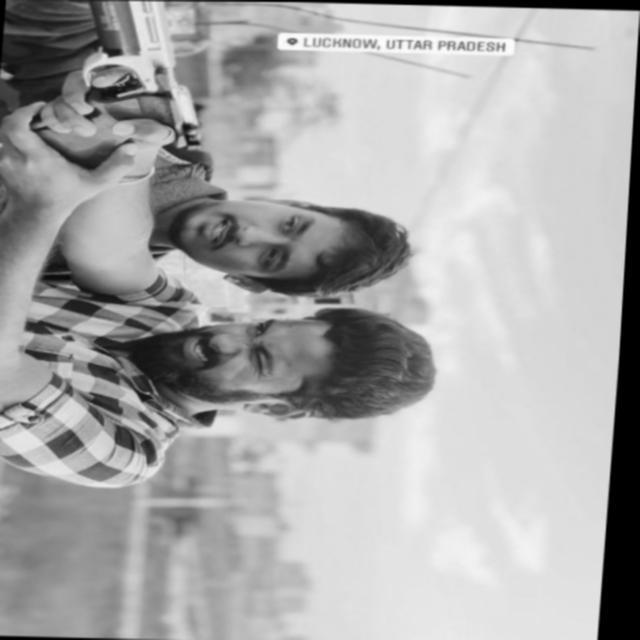weapon: (0, 0, 223, 189)
